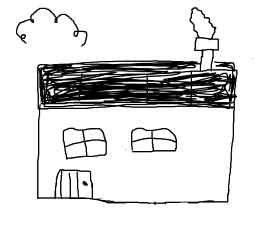closed_window: (58, 122, 111, 163), (128, 124, 183, 157)
clouds: (14, 7, 87, 48)
door: (51, 163, 95, 206)
shaded_roof: (31, 57, 243, 113)
smoking_chimney: (180, 5, 219, 70)
wall: (35, 102, 235, 206)
